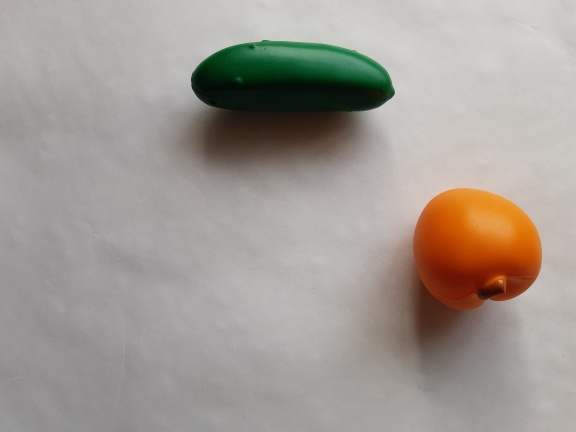apricot: (397, 184, 552, 322)
cucumber: (188, 31, 404, 126)
